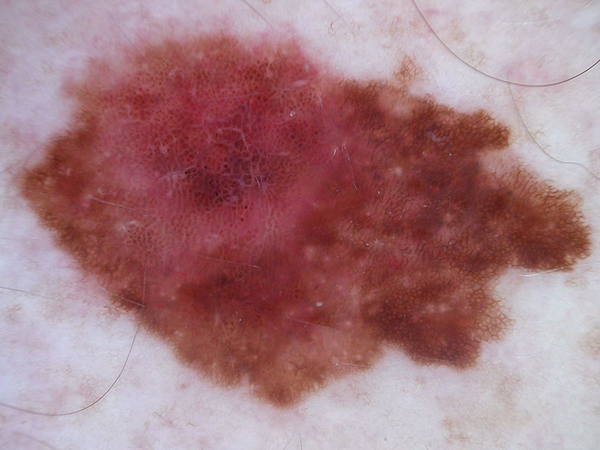Detected Lesion: (19, 31, 594, 412)
